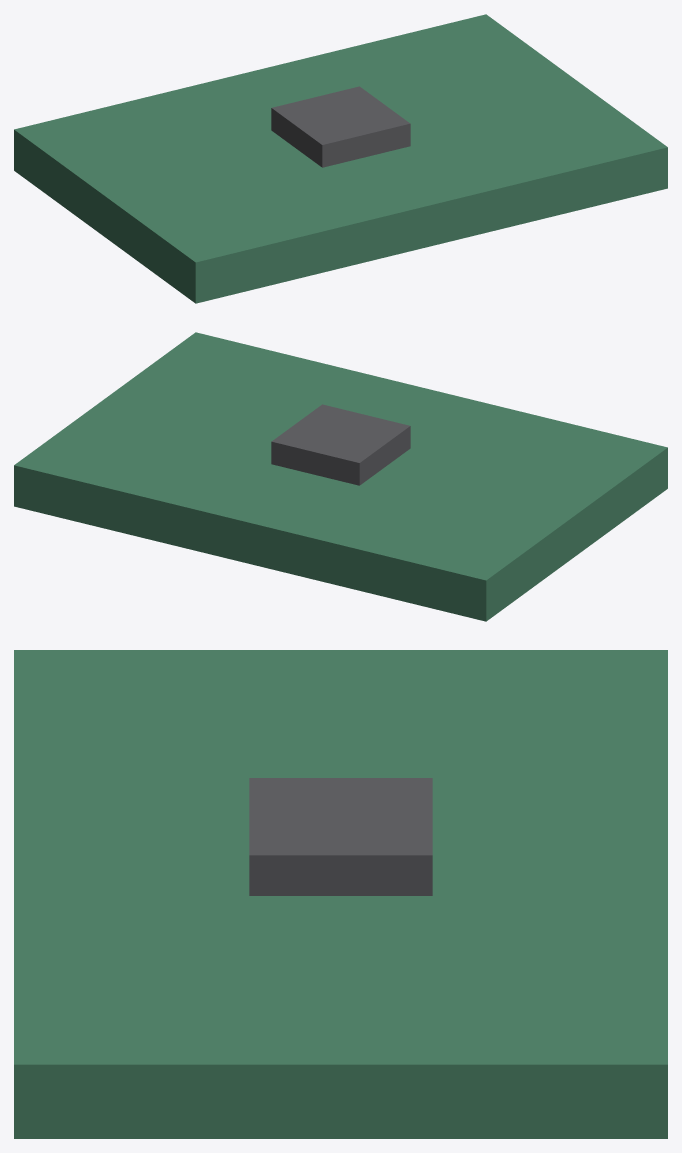
Rendered from ttp223.glb.
3 views of the same model, one above another, from view 1: azimuth 30°, elevation 25°; view 2: azimuth 150°, elevation 25°; view 3: azimuth 270°, elevation 25° (orthographic). The views are drawn at different scales.
Visible parts, largest first — view 1: ttp223-pcb, ttp223-ic; view 2: ttp223-pcb, ttp223-ic; view 3: ttp223-pcb, ttp223-ic.
Boxes of the visible parts, x1,y1,x2,y2 form: ttp223-pcb: (14,14,667,303); ttp223-ic: (271,86,410,167); ttp223-pcb: (14,332,667,621); ttp223-ic: (271,404,410,485); ttp223-pcb: (14,650,667,1138); ttp223-ic: (249,778,432,895).
Size of the model in its own units: 0.024 by 0.0031 by 0.016.
